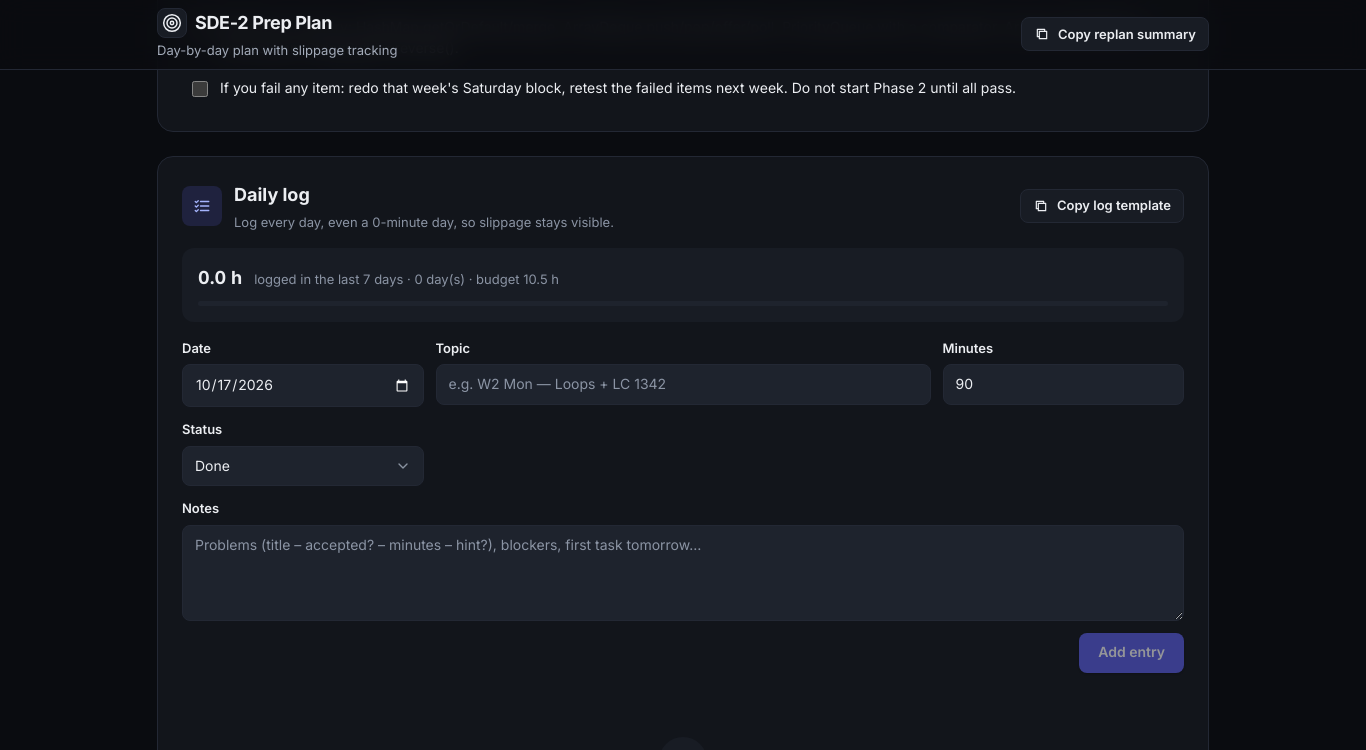
Test case: PrepPlan › keeps the log entry disabled until a topic is written
(page scrolled)
Expected: the button "Add entry" is disabled, top-left (1079, 633), bottom-right (1184, 673)
Type "Arrays" into the field labelled "Topic".
click(683, 384); type("Arrays")  # box top-left (436, 364), bottom-right (930, 405)
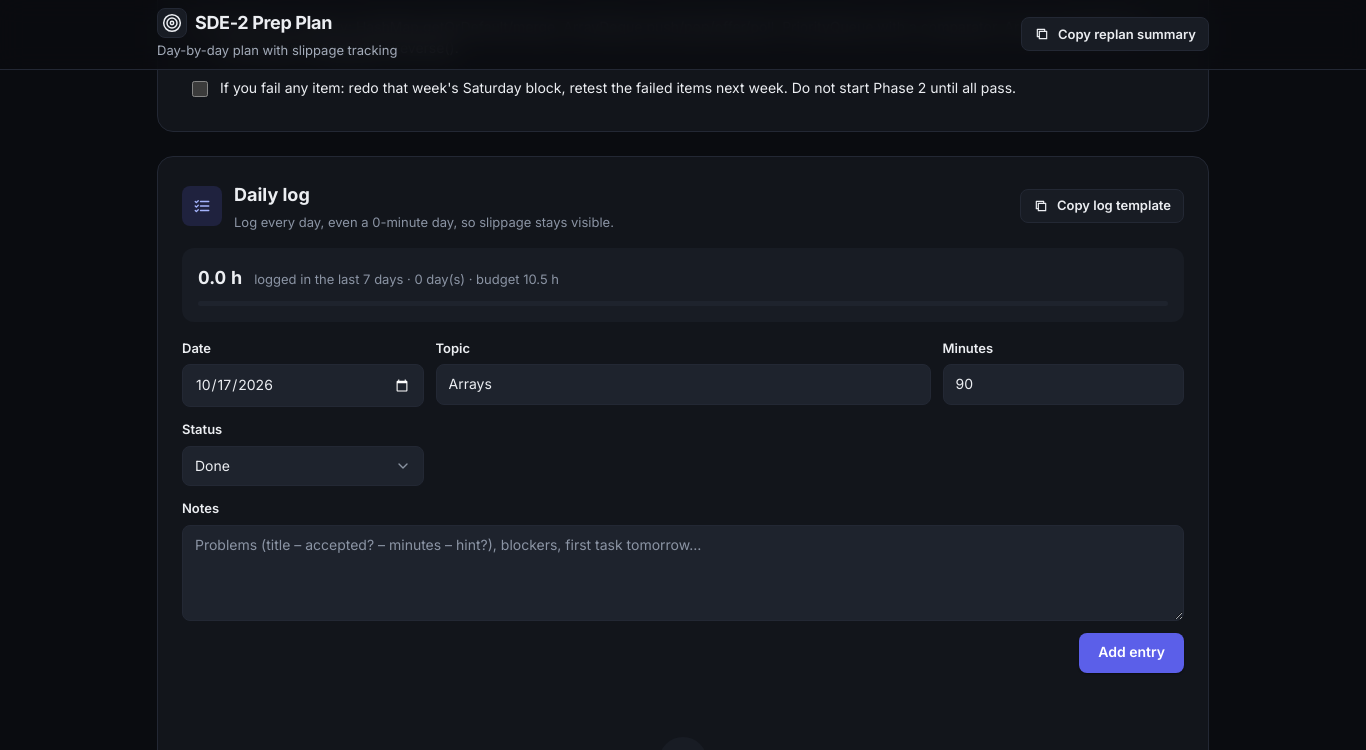
Expected: the button "Add entry" is enabled, top-left (1079, 633), bottom-right (1184, 673)
